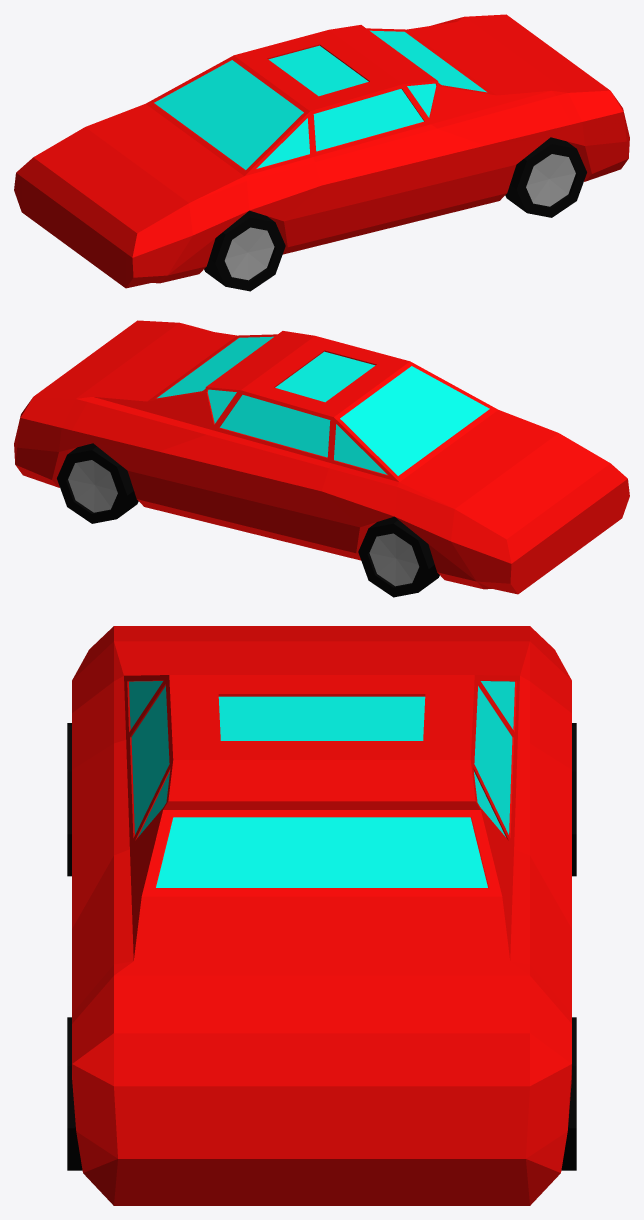
Rendered from ToyCar.fbx.
The picture shows the model from 3 angles, top to bottom: view 1: azimuth 30°, elevation 25°; view 2: azimuth 150°, elevation 25°; view 3: azimuth 270°, elevation 25°; orthographic projection. The views are drawn at different scales.
Visible parts, largest first — view 1: Cube; view 2: Cube; view 3: Cube.
Boxes of the visible parts, <box> form: Cube: <box>14,14,629,291</box>; Cube: <box>14,320,629,597</box>; Cube: <box>67,626,576,1205</box>.
Size of the model in its own units: 11.29 by 3.08 by 4.93.
